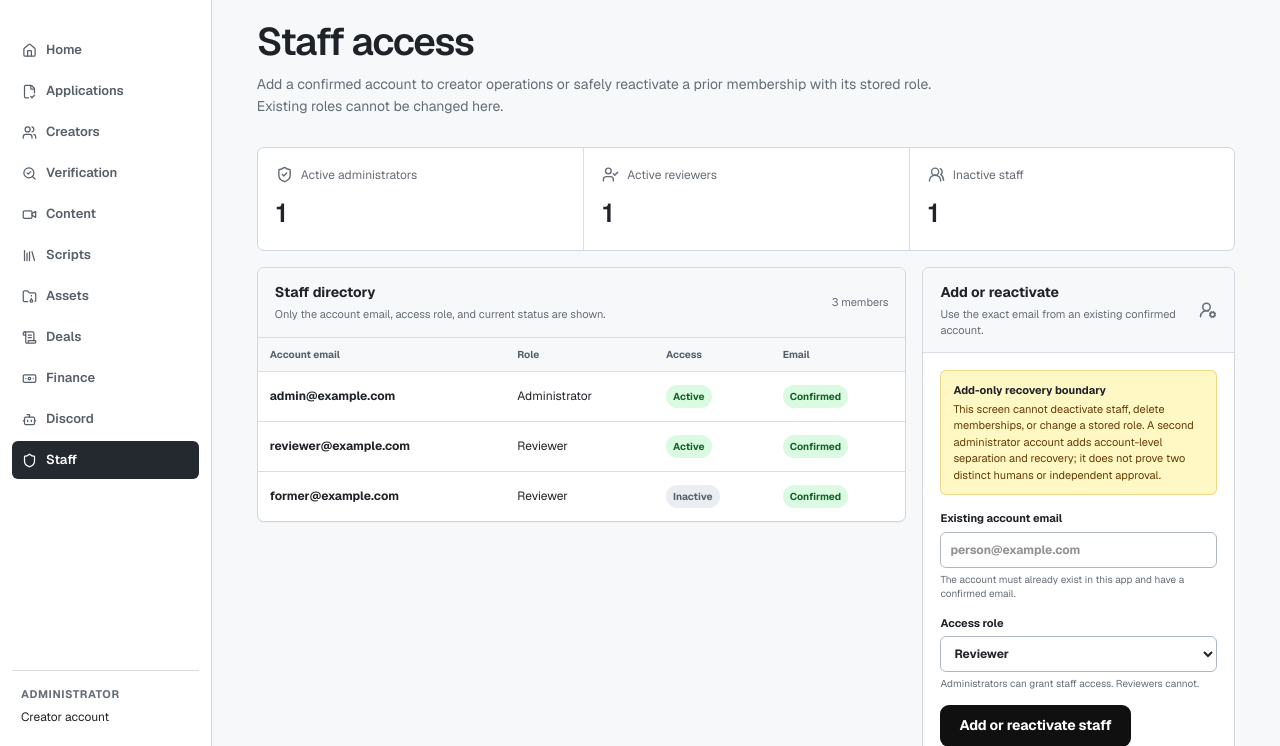
it: admin staff page › submits only normalized email and role, then refreshes verified state
In the field labelled "Existing account email": [1079, 550] box x1=940 y1=532 x2=1217 y2=568, type "New.Staff@Example.COM"
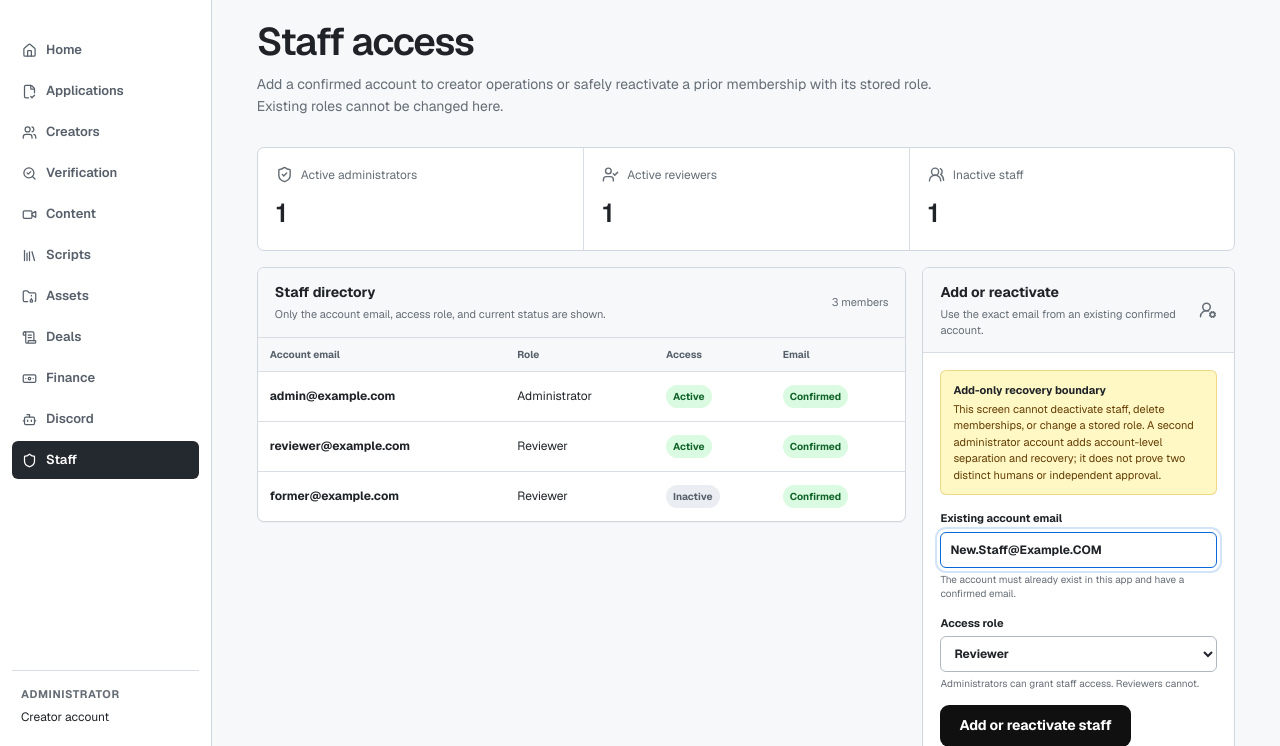
Select "Administrator" in the dropdown labelled "Access role": [1079, 654] box x1=940 y1=636 x2=1217 y2=672
(page scrolled)
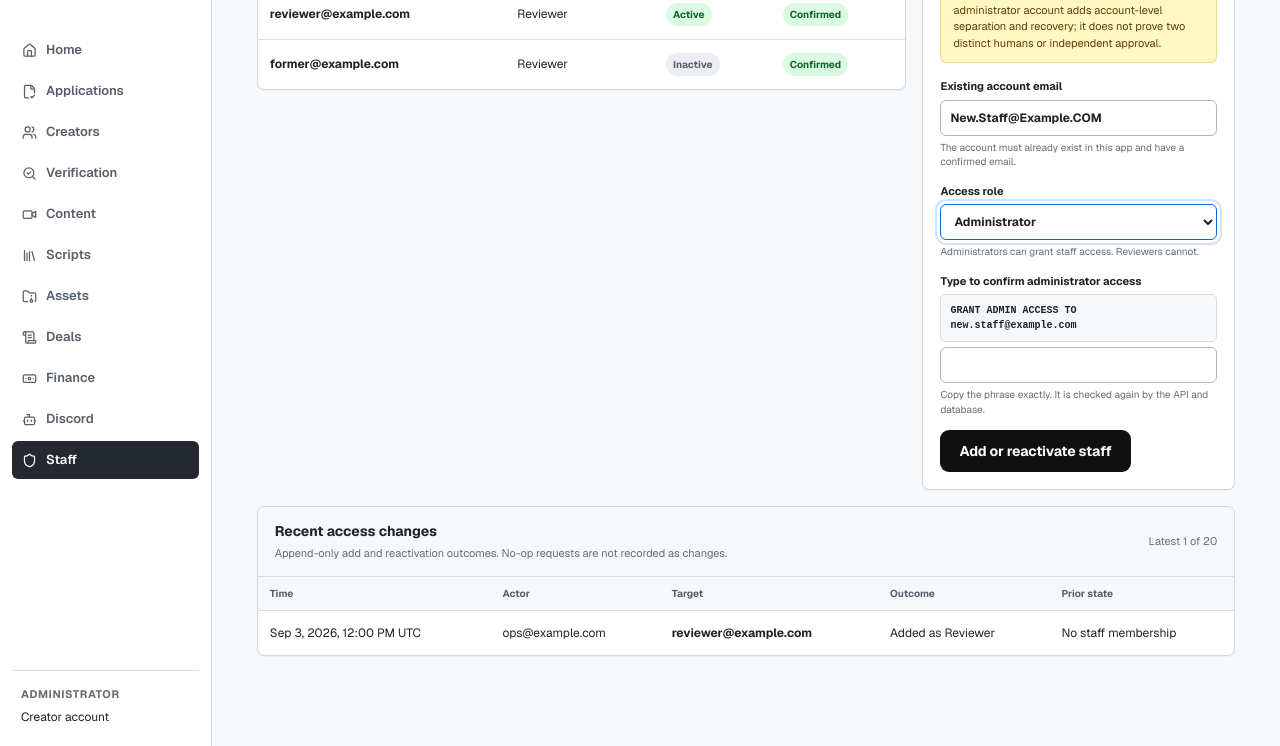
Check: the text "GRANT ADMIN ACCESS TO new.staff@example.com" is shown, box x1=940 y1=294 x2=1217 y2=342
In the field labelled "Type to confirm administrator access": [1079, 365] box x1=940 y1=347 x2=1217 y2=383, type "GRANT ADMIN ACCESS TO new.staff@example.com"
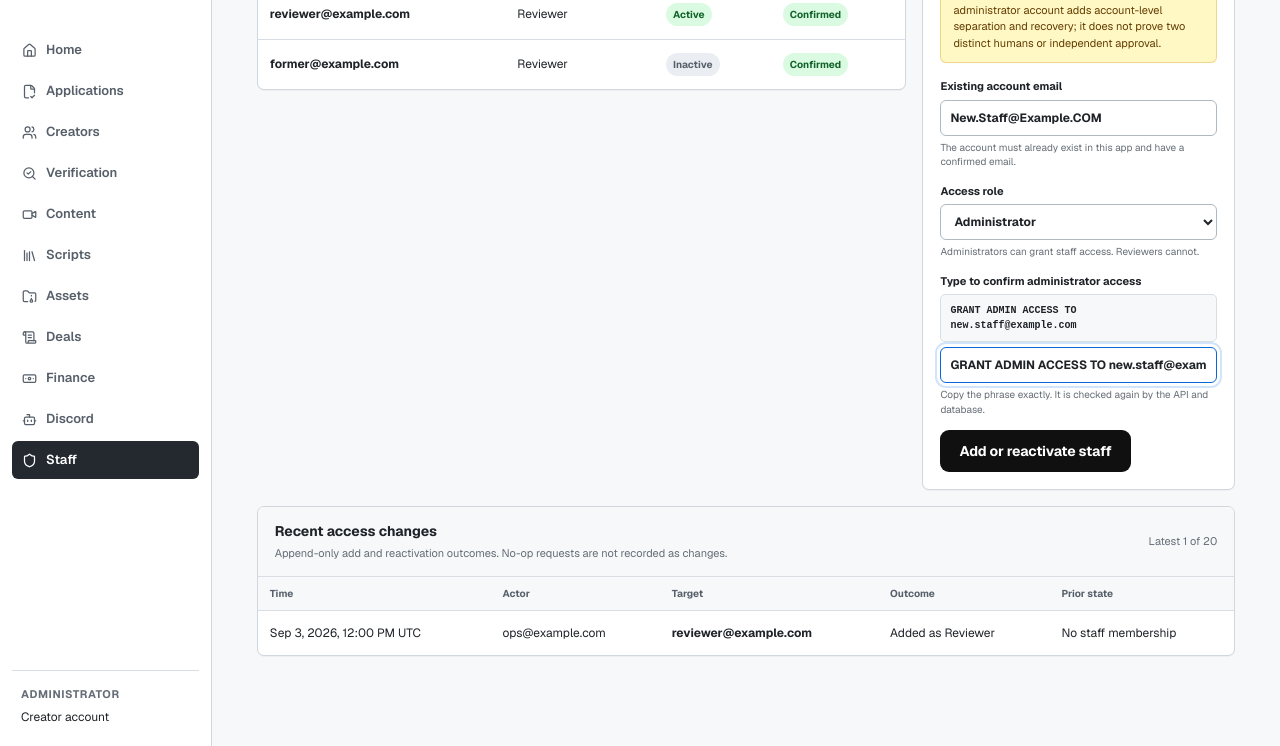
Click the button "Add or reactivate staff": [1036, 451] box x1=940 y1=430 x2=1131 y2=472
(page scrolled)
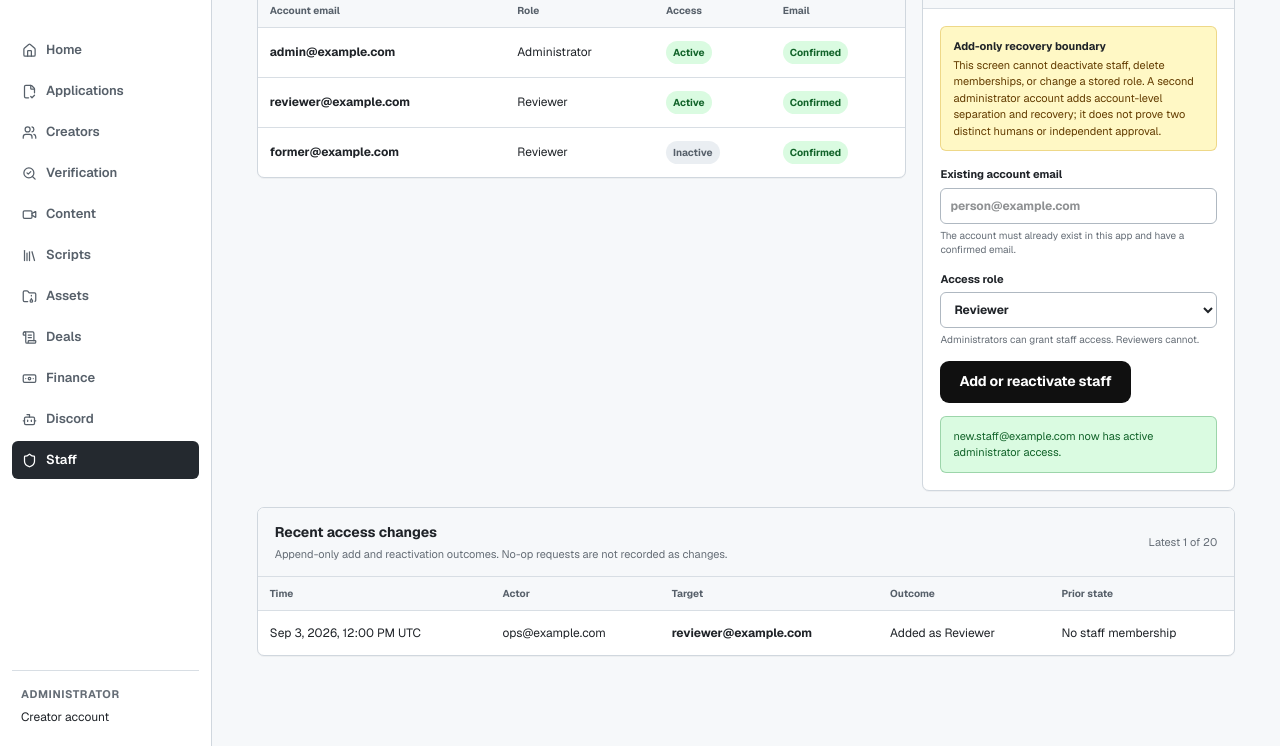
Check: the message shows "active administrator access", box x1=953 y1=429 x2=1153 y2=459
